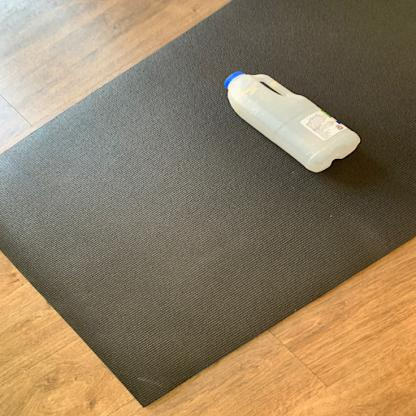trash: (220, 69, 362, 175)
